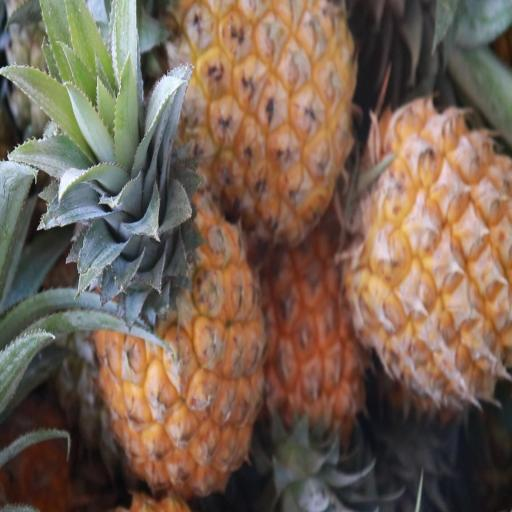Pineapple - v8 v1: (82, 132, 269, 492), (356, 94, 511, 404), (183, 0, 356, 237), (266, 234, 382, 472)
